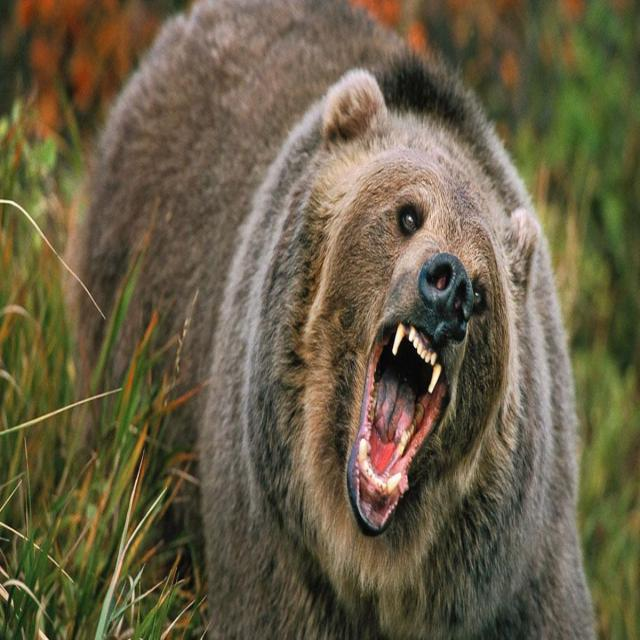Bear: (59, 0, 598, 640)
